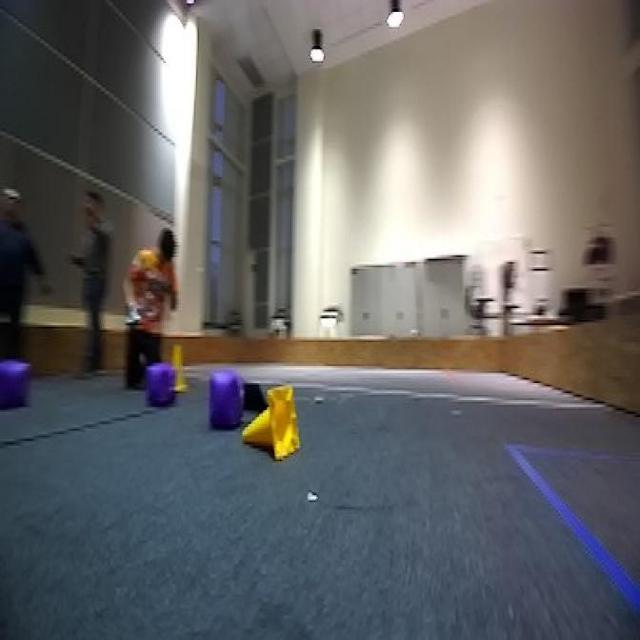frc_cone: (244, 388, 306, 460), (168, 340, 192, 390)
frc_cube: (208, 364, 246, 432), (0, 356, 30, 415), (140, 357, 173, 407)
